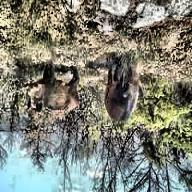boar: (97, 42, 158, 131), (8, 63, 91, 122)
